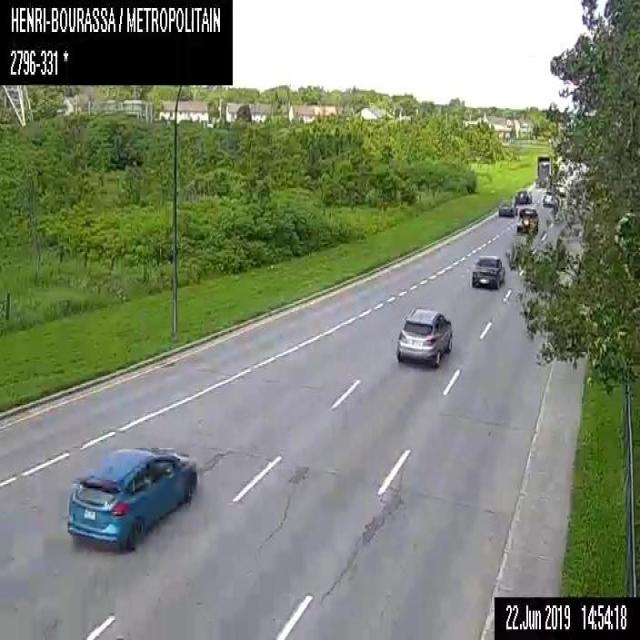vehicle: (66, 445, 196, 548), (394, 306, 452, 366), (471, 253, 504, 288), (534, 153, 552, 188), (516, 208, 538, 235), (498, 199, 517, 215), (514, 188, 530, 202), (542, 190, 556, 205), (554, 182, 566, 196)
